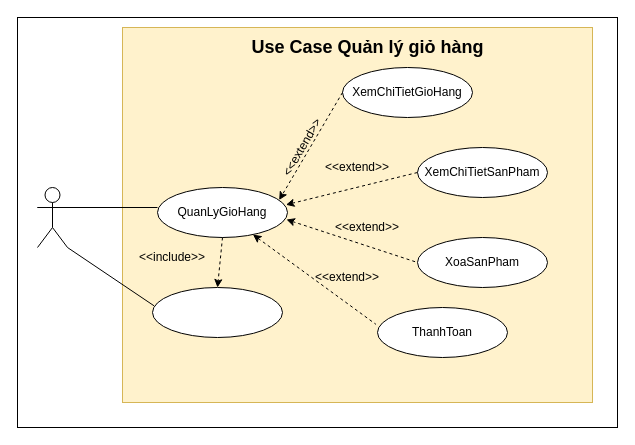
Some shapes in this 635 by 445 pixel diagram are drawn without their labels. Each missing label, with the centre of its shape:
"DangNhap" belongs at pixel 217 312.
"KhachHang" belongs at pixel 52 217.
